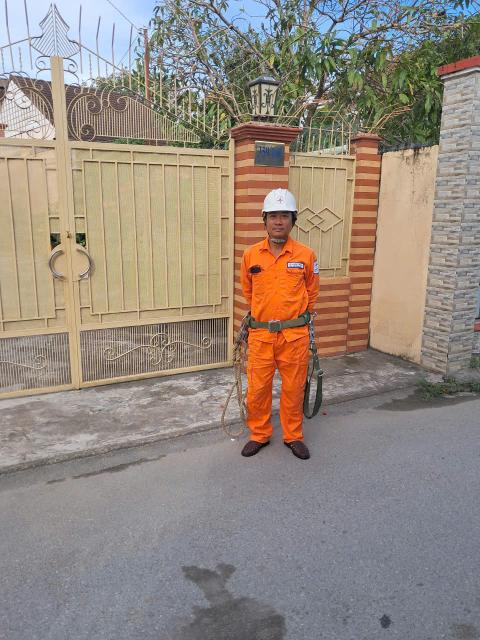harness: (240, 307, 321, 336)
helmet: (248, 187, 310, 223)
shoes: (237, 430, 273, 457), (282, 433, 318, 460)
